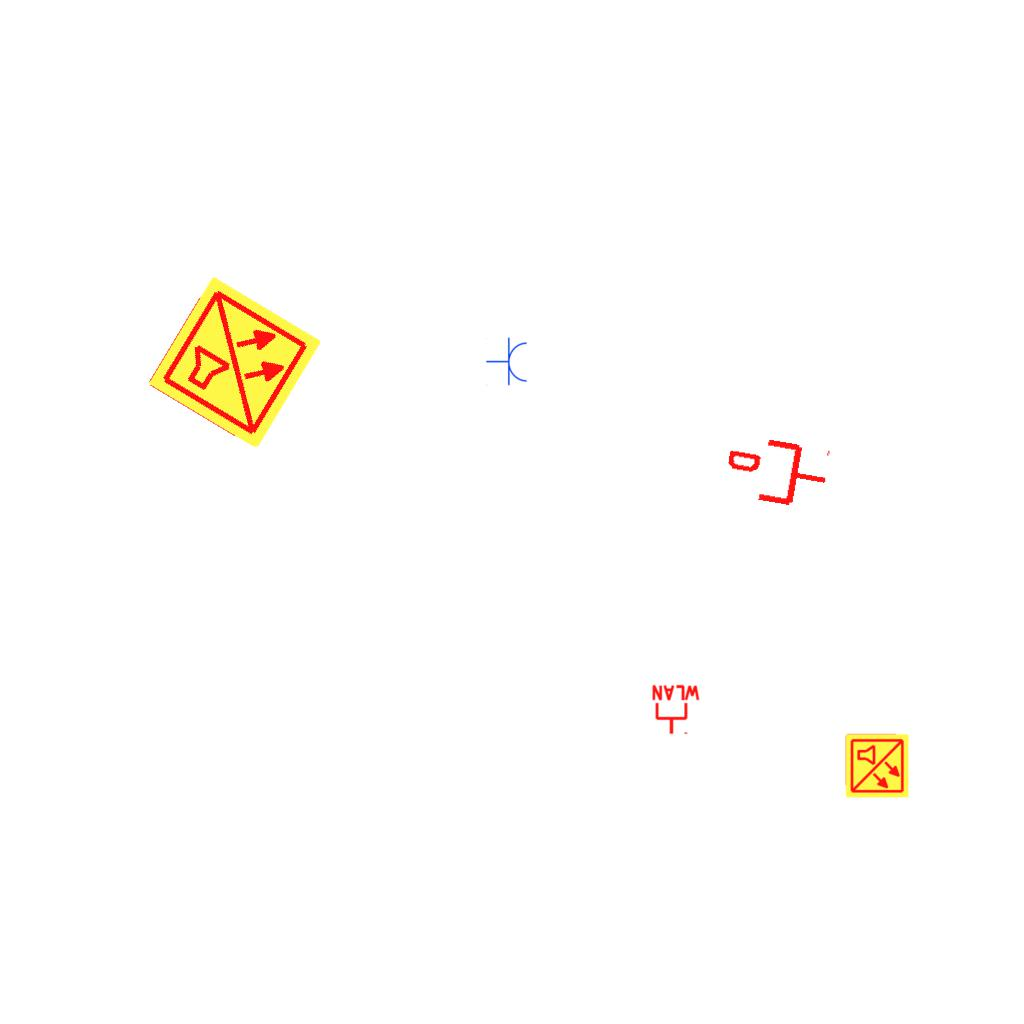Datenanschluss_einfach: (722, 429, 833, 515)
OKW_Multisensormelder_(Kombination_optischer_Rauch-Kahlenmonoxid_Waerme-Melder): (144, 272, 326, 454), (844, 733, 910, 799)
Schukosteckdose_einfach: (486, 337, 529, 387)
WLAN: (650, 684, 702, 736)
